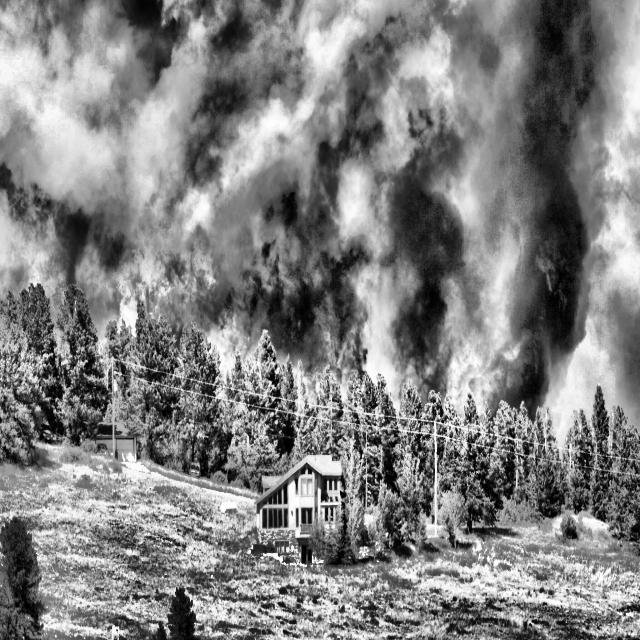fire: (3, 156, 591, 462)
